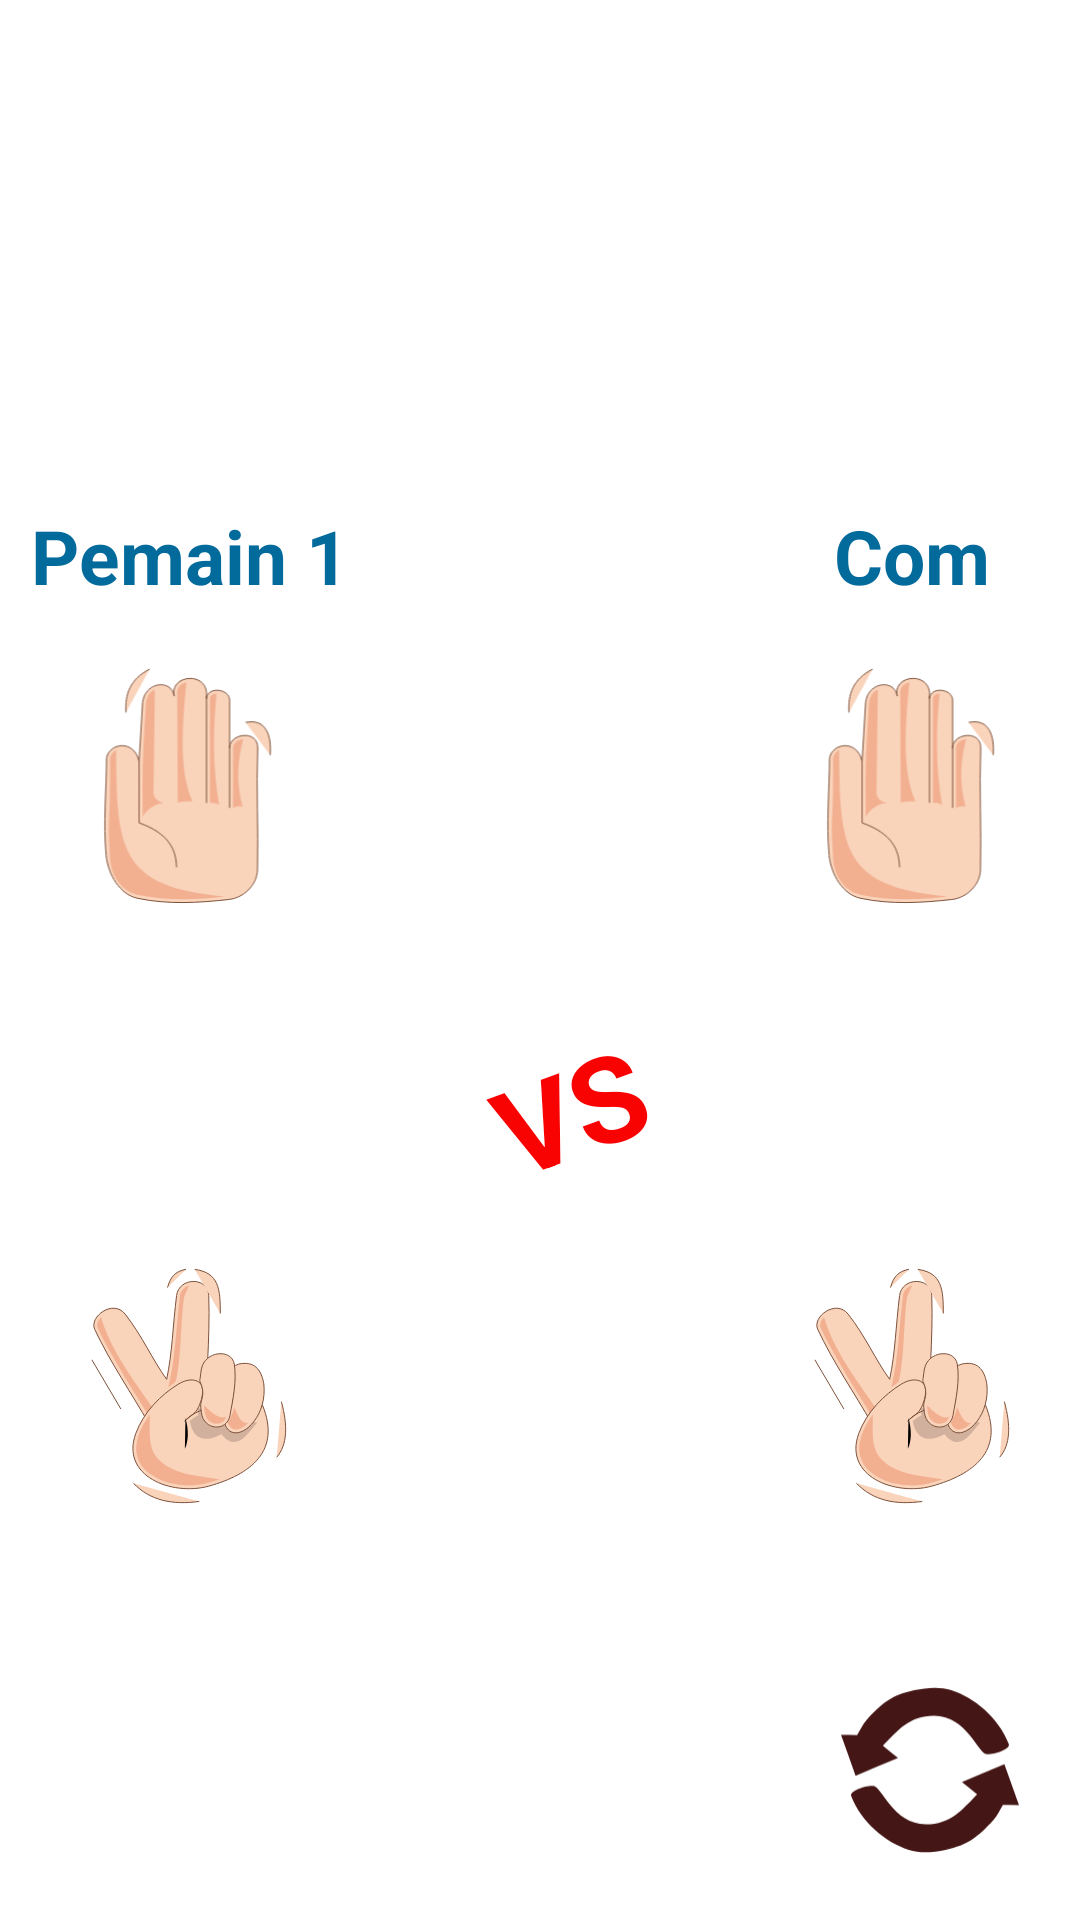

Where icons sit on this 1080 × 1920 app screen, as (x1,y1,x2,y2):
gunting: (91,1269,287,1503), (814,1269,1010,1503)
kertas: (104,669,272,903), (827,669,995,903)
refresh: (841,1687,1019,1853)
